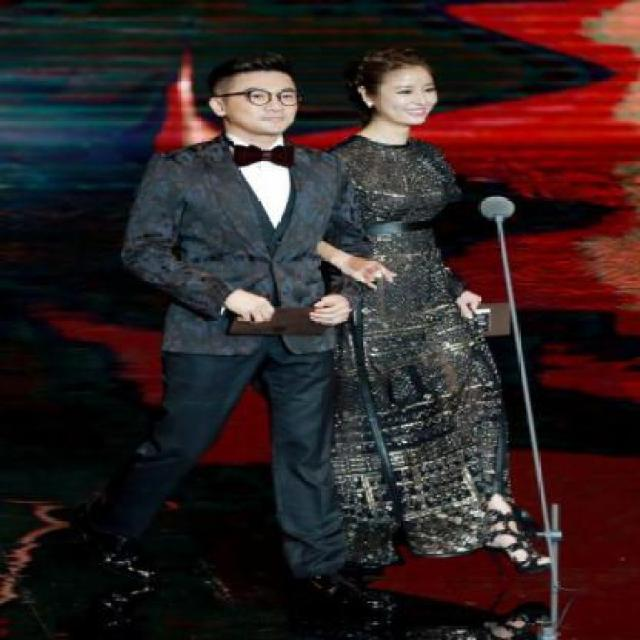Person: (113, 39, 353, 610), (314, 34, 494, 588)
